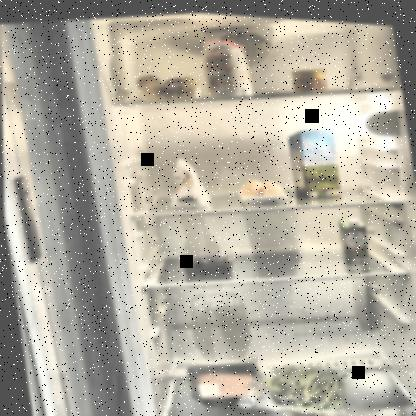blueberries: (181, 249, 238, 278)
chicken: (183, 356, 264, 405)
corn: (289, 59, 332, 93)
eggs: (237, 168, 290, 200)
green_beans: (257, 344, 355, 415)
heavy_cream: (335, 207, 374, 263)
milk: (286, 119, 346, 199)
potato: (134, 65, 207, 104)
